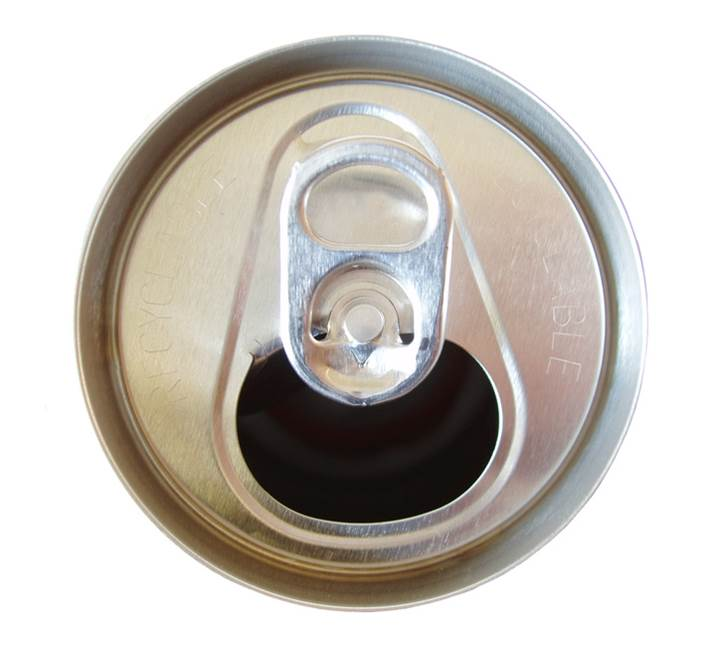can: (45, 26, 666, 623)
